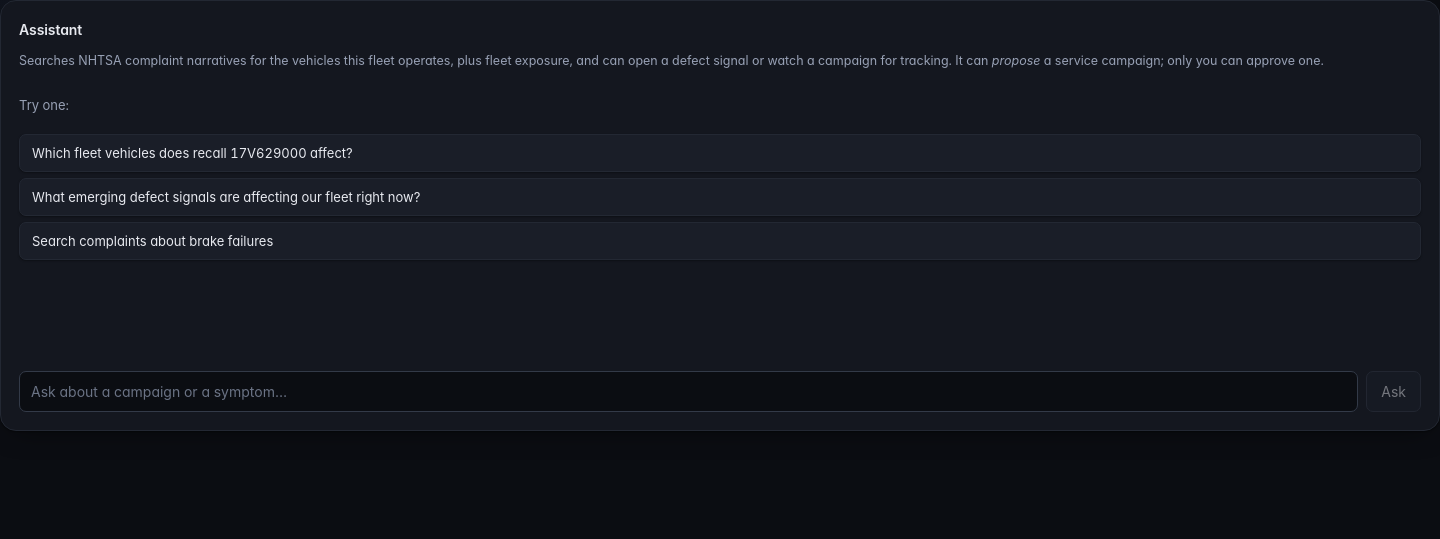
Test case: Assistant › shows the sign-in explanation on a 401, not the raw message
Type "hello" into the field with placeholder "Ask about a campaign or a symptom…" at (689, 391), box [19,371,1358,412]
Then press Enter
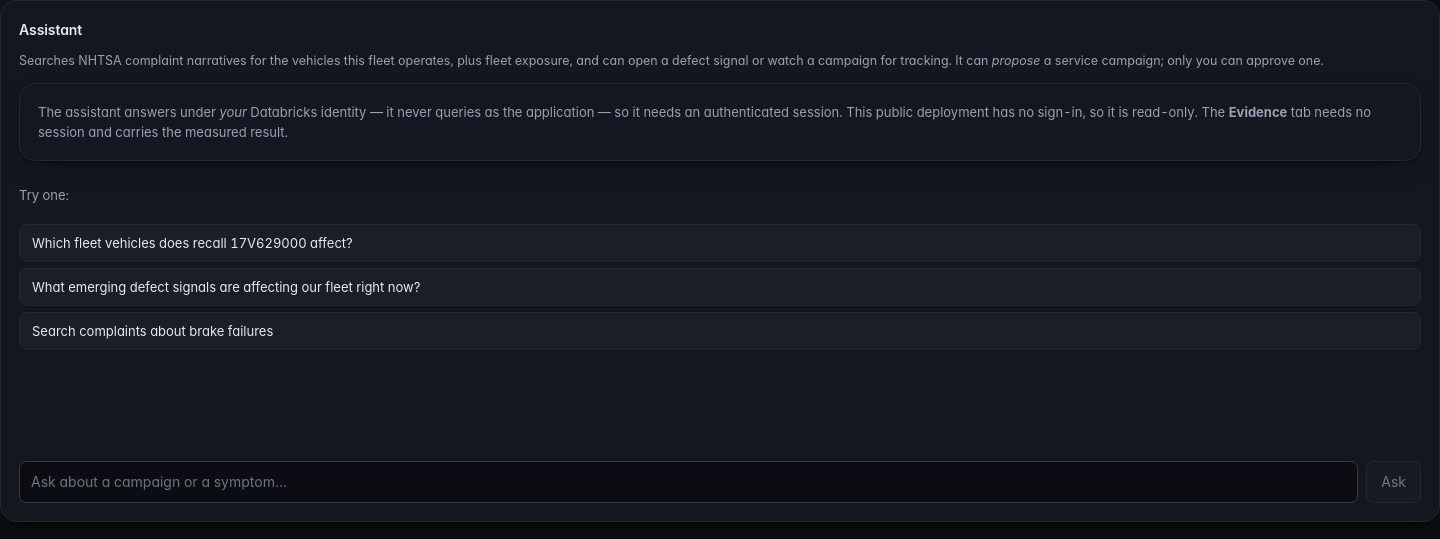
expect the text "it needs an authenticated session" is shown: met, box [247,104,1229,120]
